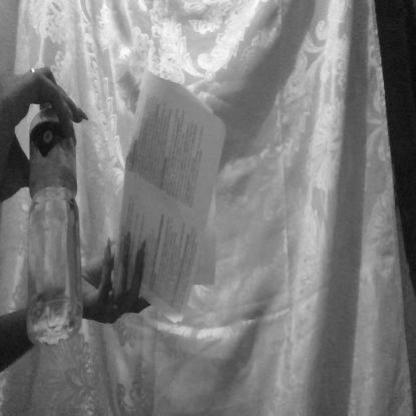Plastic Bottle: (17, 45, 89, 389)
